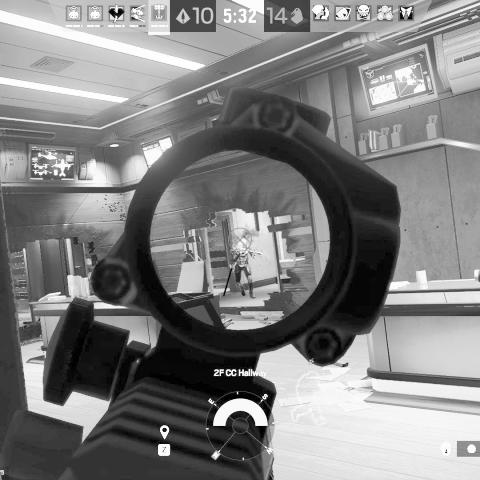Character: (230, 236, 262, 300)
Head: (236, 237, 248, 249)
